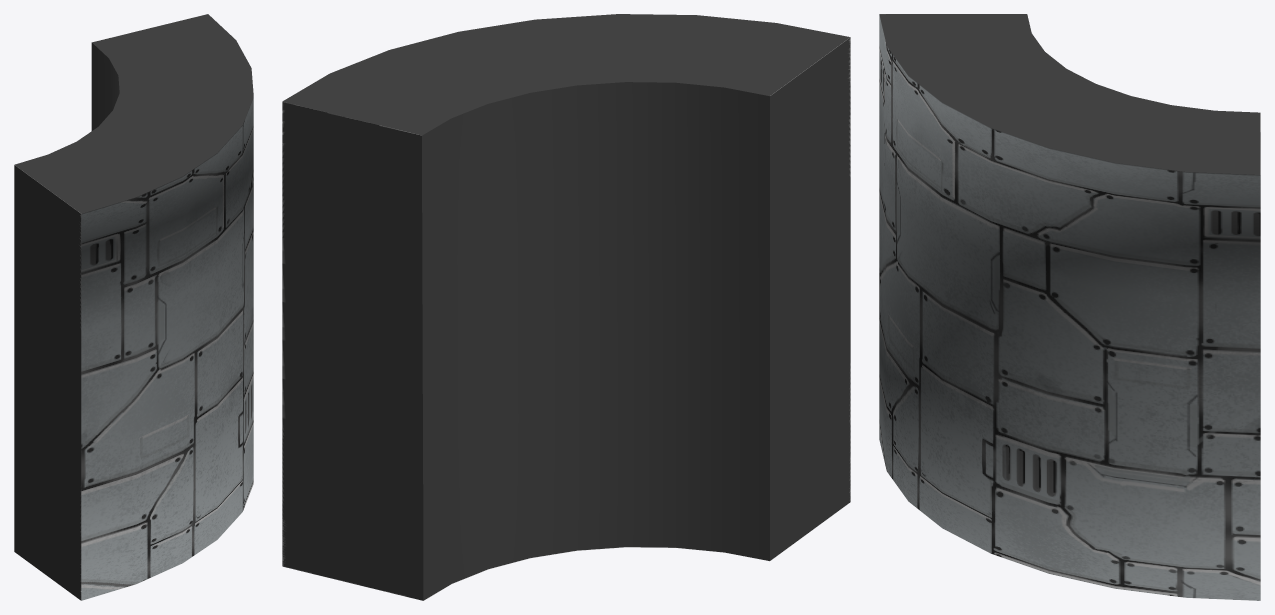
File: wall flat curved corner.fbx
3 renders of one model, left to right at view 1: azimuth 30°, elevation 25°; view 2: azimuth 150°, elevation 25°; view 3: azimuth 270°, elevation 25°, orthographic. The views are drawn at different scales.
Visible parts, largest first — view 1: hörn_minus_46; view 2: hörn_minus_46; view 3: hörn_minus_46.
Part boxes in pixels (box(x1,y1,x2,y2)): hörn_minus_46: box(14, 14, 253, 600); hörn_minus_46: box(282, 14, 850, 600); hörn_minus_46: box(879, 14, 1260, 600).
Size of the model in its own units: 2.37 by 2.93 by 2.37.
